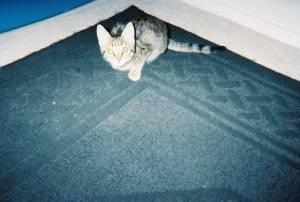cat: (97, 18, 225, 81)
